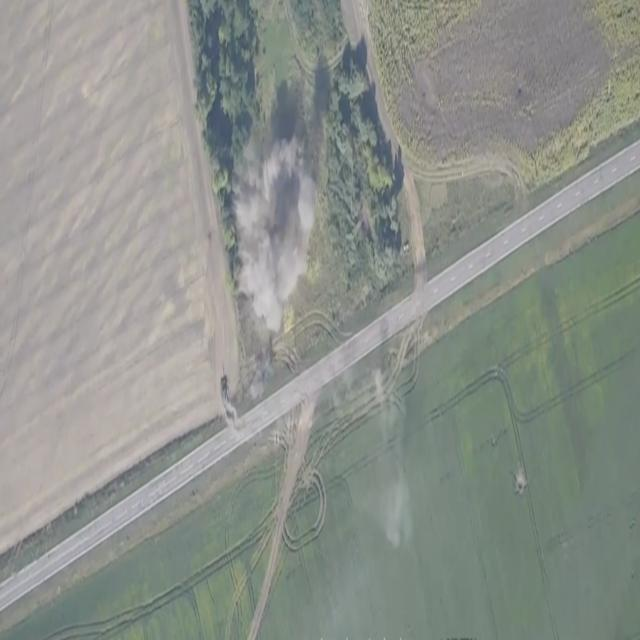vehicle: (220, 364, 229, 397)
